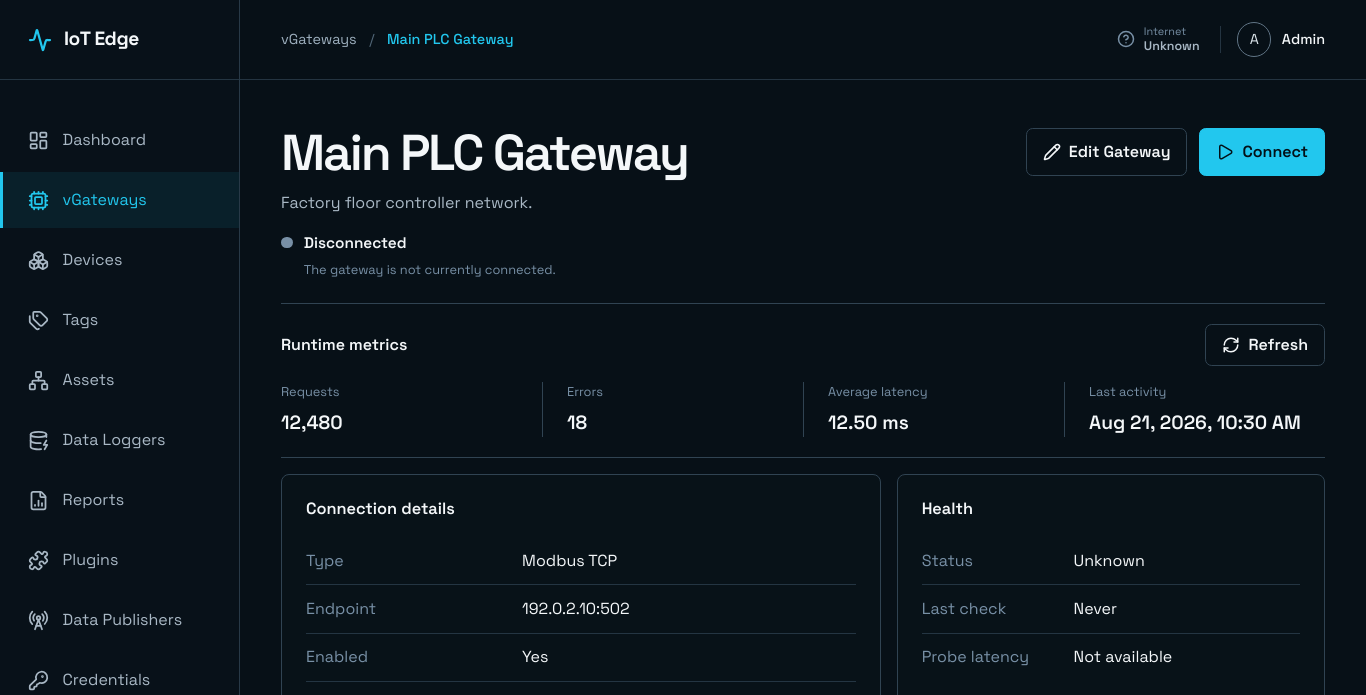
Test: VGatewayDetailPage › connects a disconnected gateway and reports action failures without hiding details
Expected: the heading "Main PLC Gateway" is shown, [281, 128, 688, 178]
What coordinates should you click on to do the following:
click the button "Connect"
I would click on:
 (1262, 152)
Its box is [1200, 128, 1325, 176].
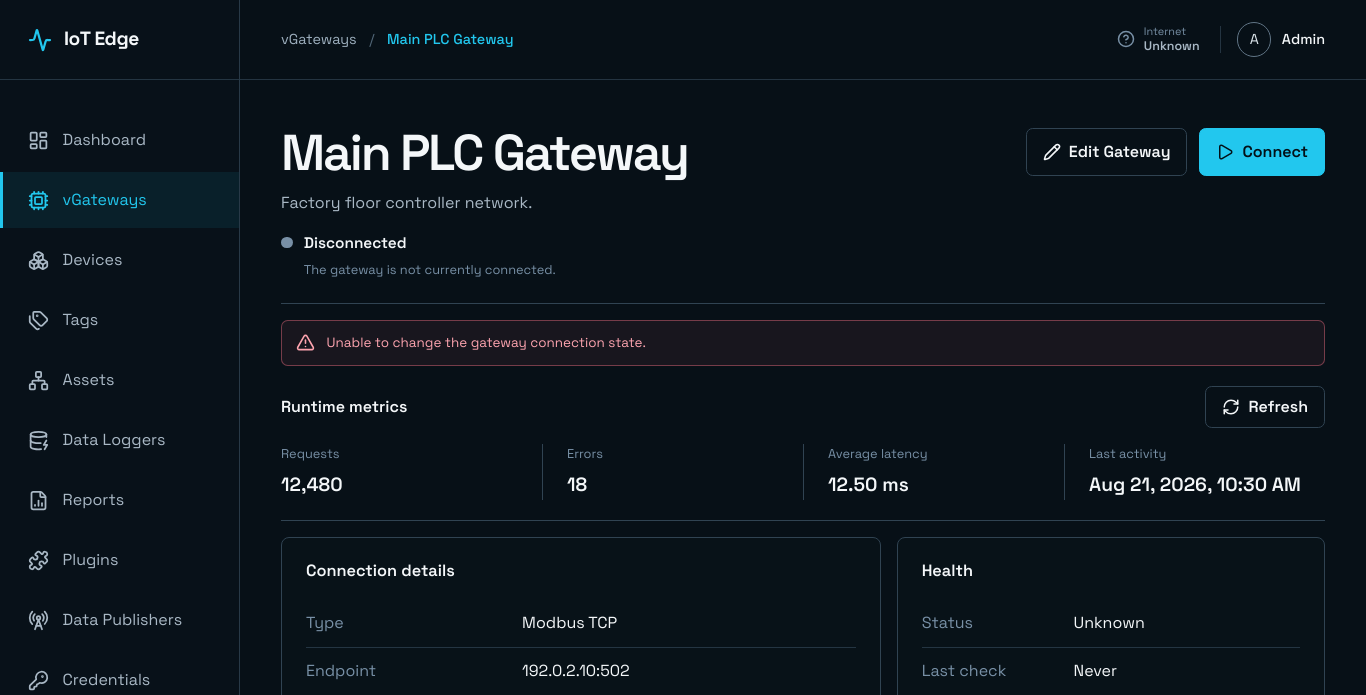
Expected: the text "192.0.2.10:502" is shown, [522, 660, 630, 681]
Expected: the message "Unable to change the gateway connection state." is shown, [281, 320, 1325, 366]
